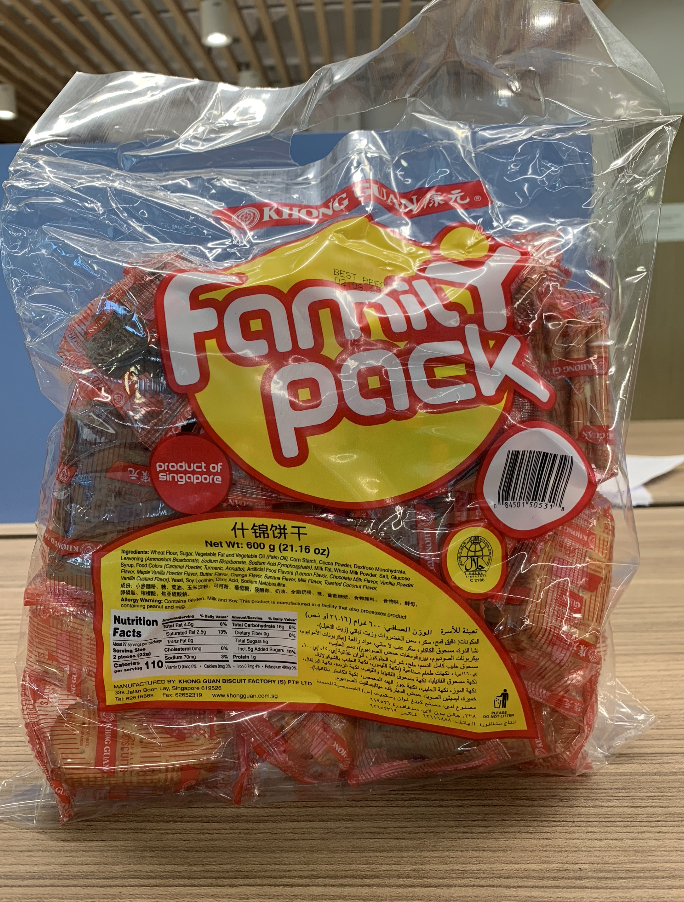cookies_450g: (85, 250, 588, 717)
